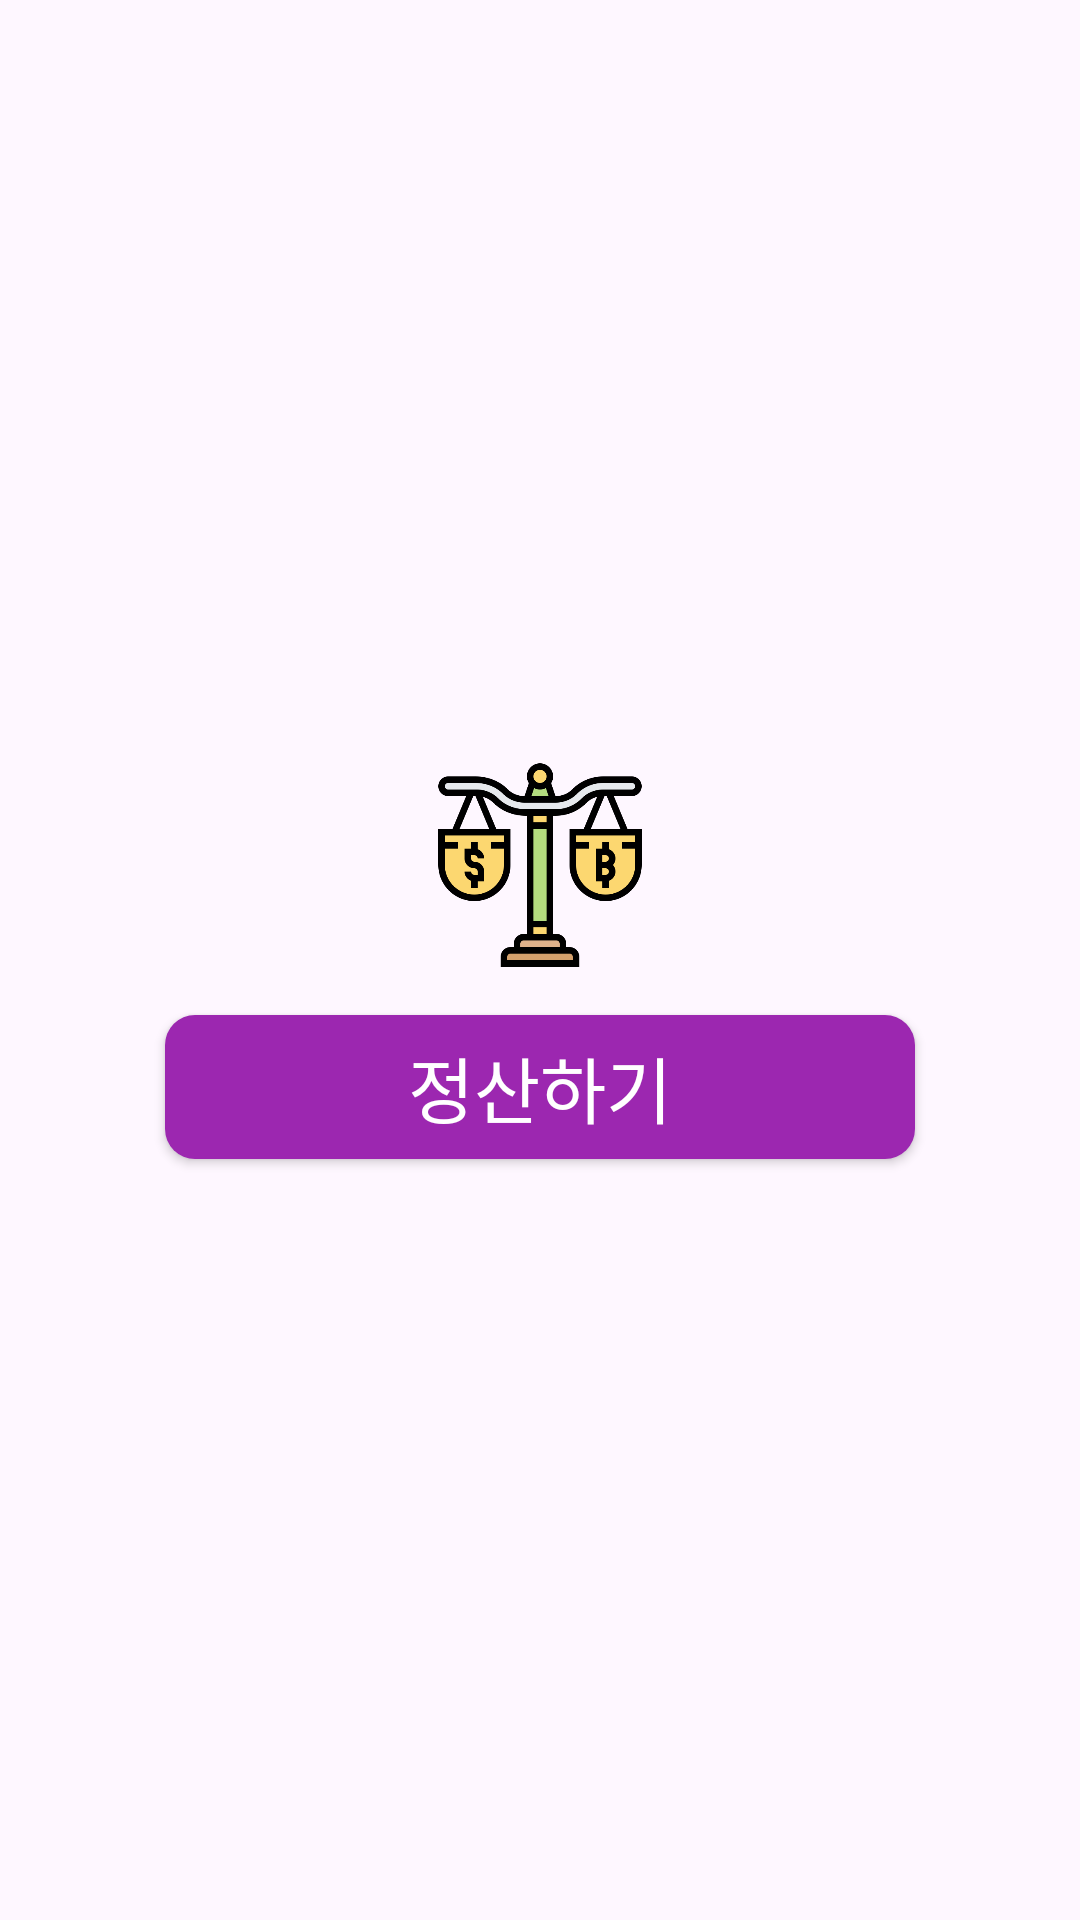

Where to tap for icons on this 1080 × 1920 app screen, as point (x, y):
balance: point (540, 865)
